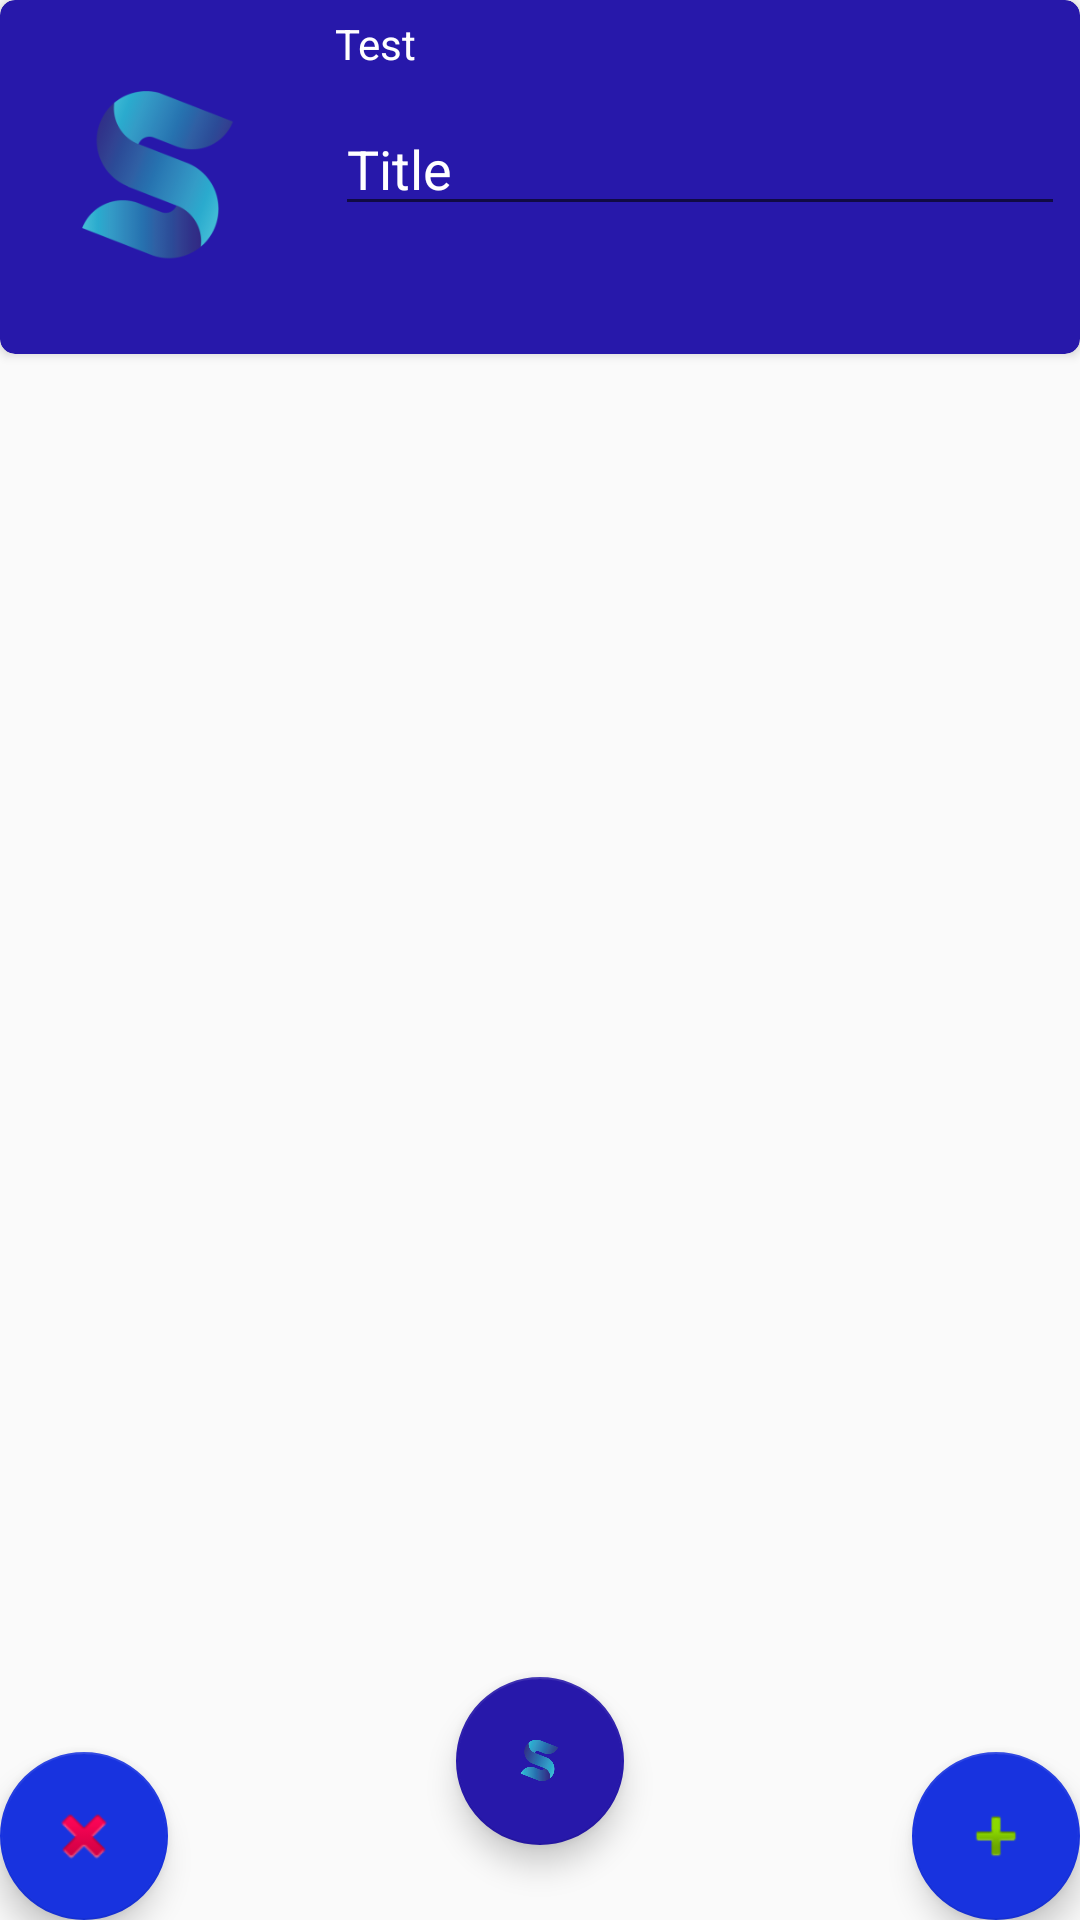

Icons on this 1080*1920 Android screen, each with the point to tap as (x,y):
add: (996,1836)
delete: (84,1836)
